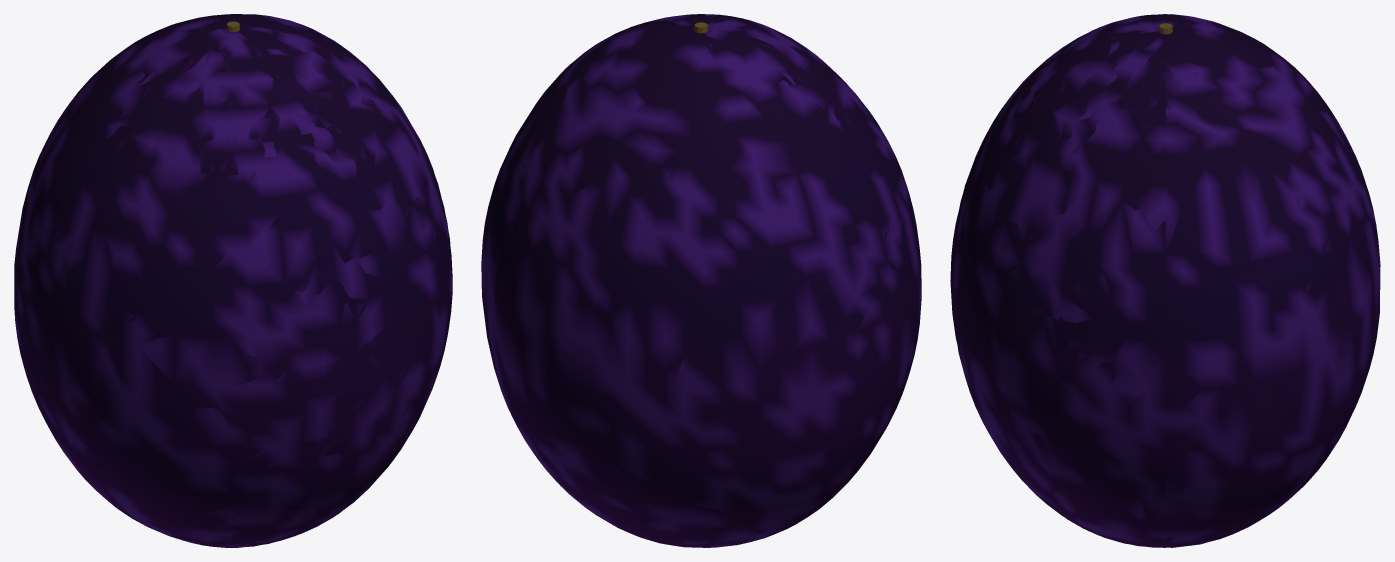
The model's file is prune.glb.
The picture shows the model from 3 angles, left to right: view 1: azimuth 30°, elevation 25°; view 2: azimuth 150°, elevation 25°; view 3: azimuth 270°, elevation 25°; orthographic projection.
Parts seen in each view (by area): view 1: moitie_B_peau, entier_peau, moitie_A_peau; view 2: entier_peau, moitie_A_peau, moitie_B_peau; view 3: entier_peau, moitie_B_peau, moitie_A_peau.
Part boxes in pixels (<box>): moitie_B_peau: <box>41,25,452,547</box>; entier_peau: <box>14,14,452,547</box>; moitie_A_peau: <box>14,14,336,498</box>; entier_peau: <box>482,14,921,547</box>; moitie_A_peau: <box>481,26,893,547</box>; moitie_B_peau: <box>596,14,921,499</box>; entier_peau: <box>950,14,1380,547</box>; moitie_B_peau: <box>950,14,1165,547</box>; moitie_A_peau: <box>1165,14,1379,547</box>.
Size of the model in its own units: 1.6 by 2.02 by 1.56.
